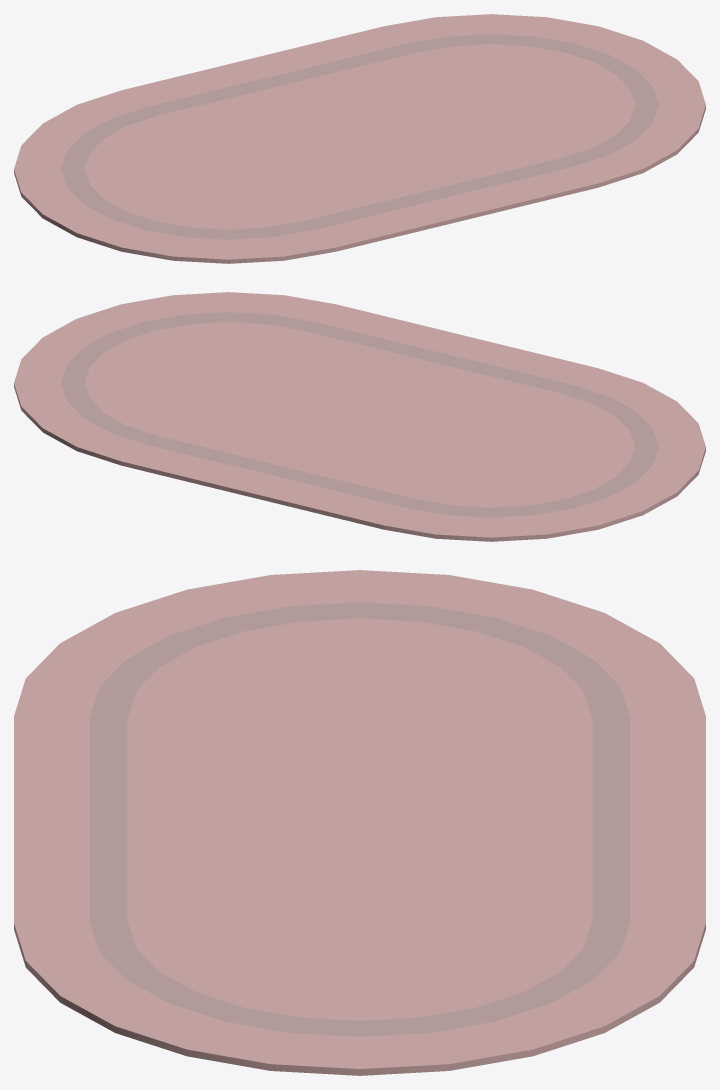
File: furn_rugRounded.glb
The picture shows the model from 3 angles, top to bottom: view 1: azimuth 30°, elevation 25°; view 2: azimuth 150°, elevation 25°; view 3: azimuth 270°, elevation 25°; orthographic projection. The views are drawn at different scales.
Bounding box in the file's own units: 3.14 × 0.02 × 1.84.
